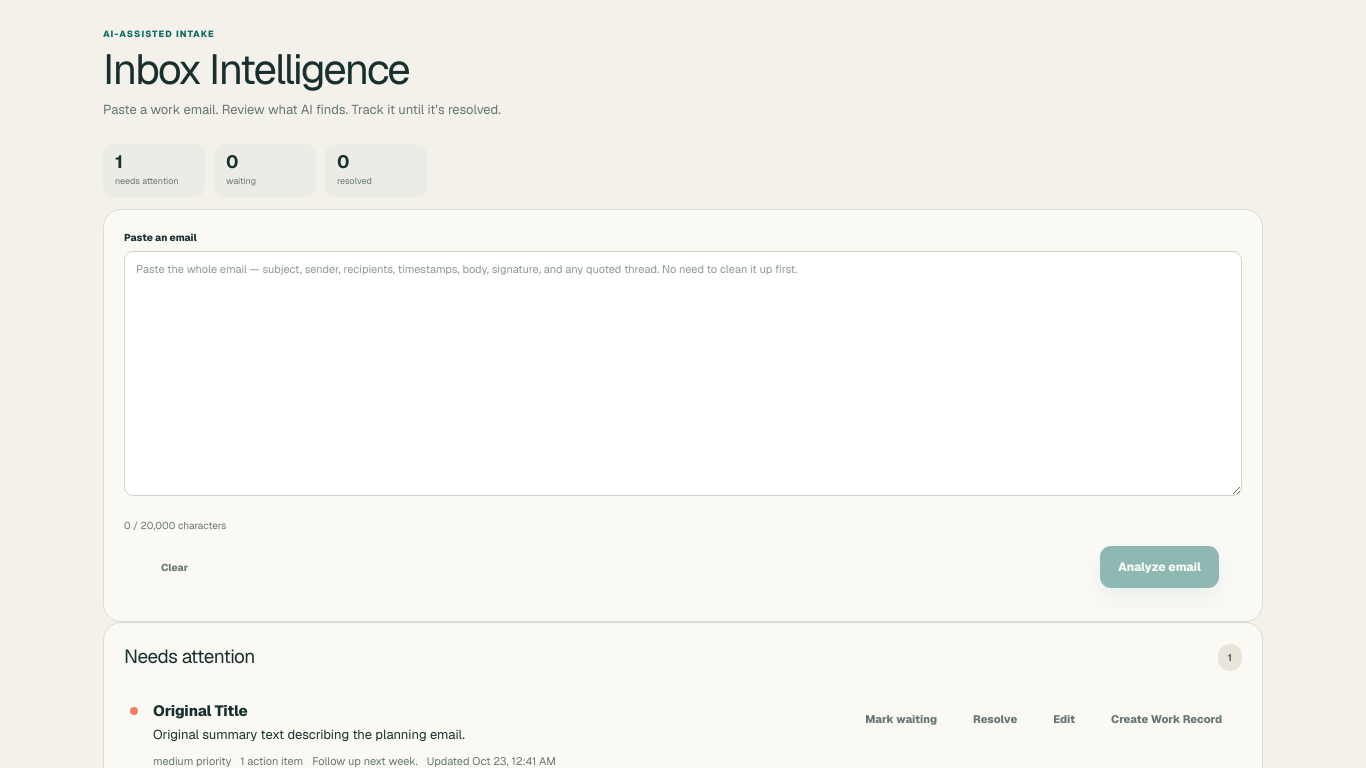
Test: Edit — opening, Cancel, and Save Changes › editing a waiting record preserves the waiting status
Click the button "Mark waiting" at (901, 719), box [851,701,951,737]
(page scrolled)
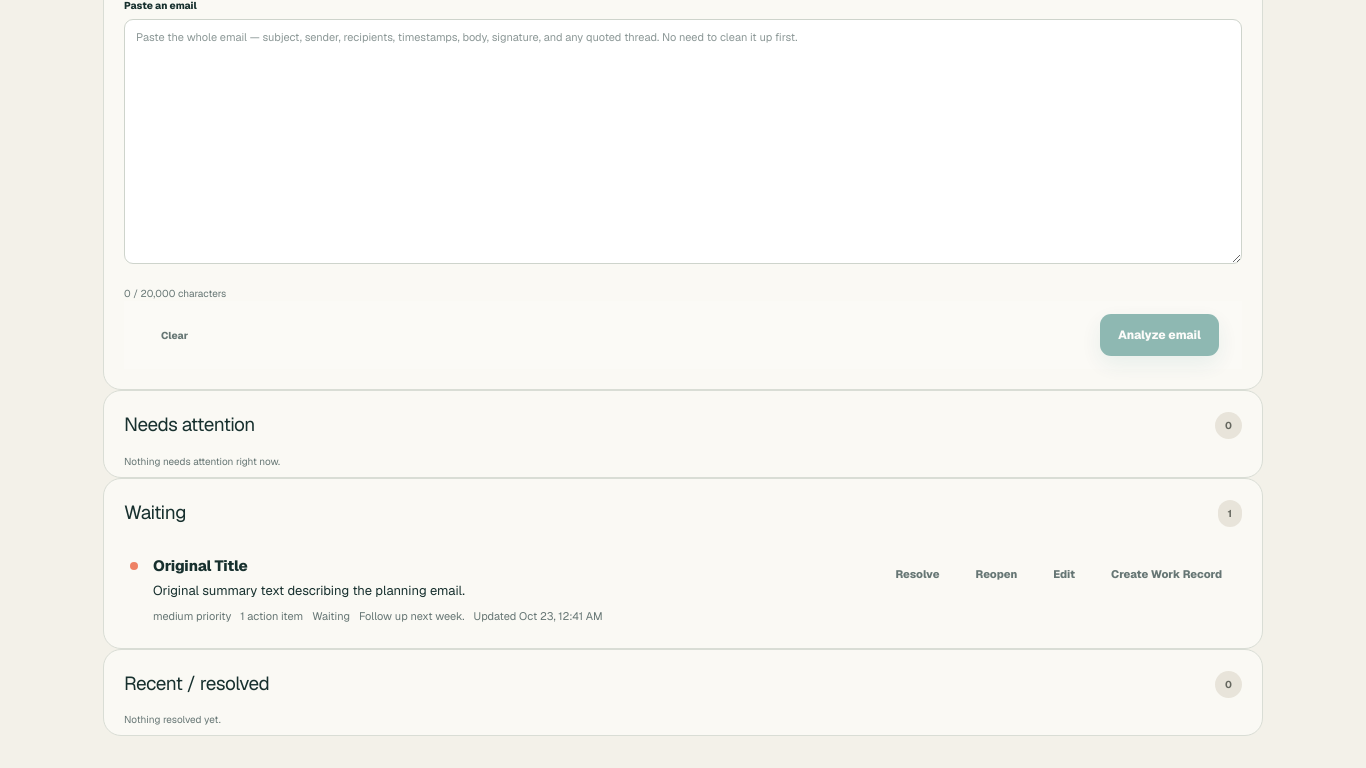
Expected: the element "Waiting" is shown, [103,478,1263,649]
Click the button "Edit" at (1064, 575), box [1039,556,1089,593]
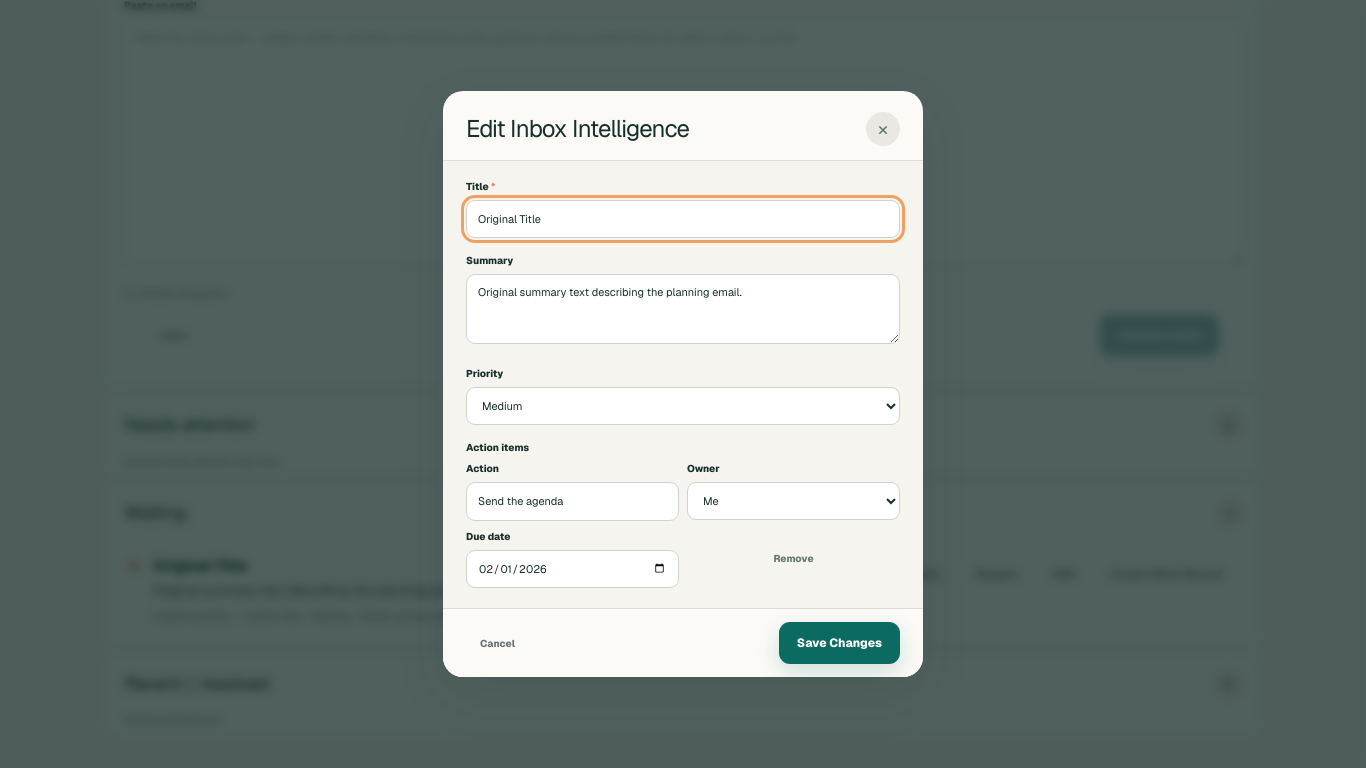
Replace the text in the field labelled "Title *" with "Still Waiting Title" at (683, 219), box [466,200,900,238]
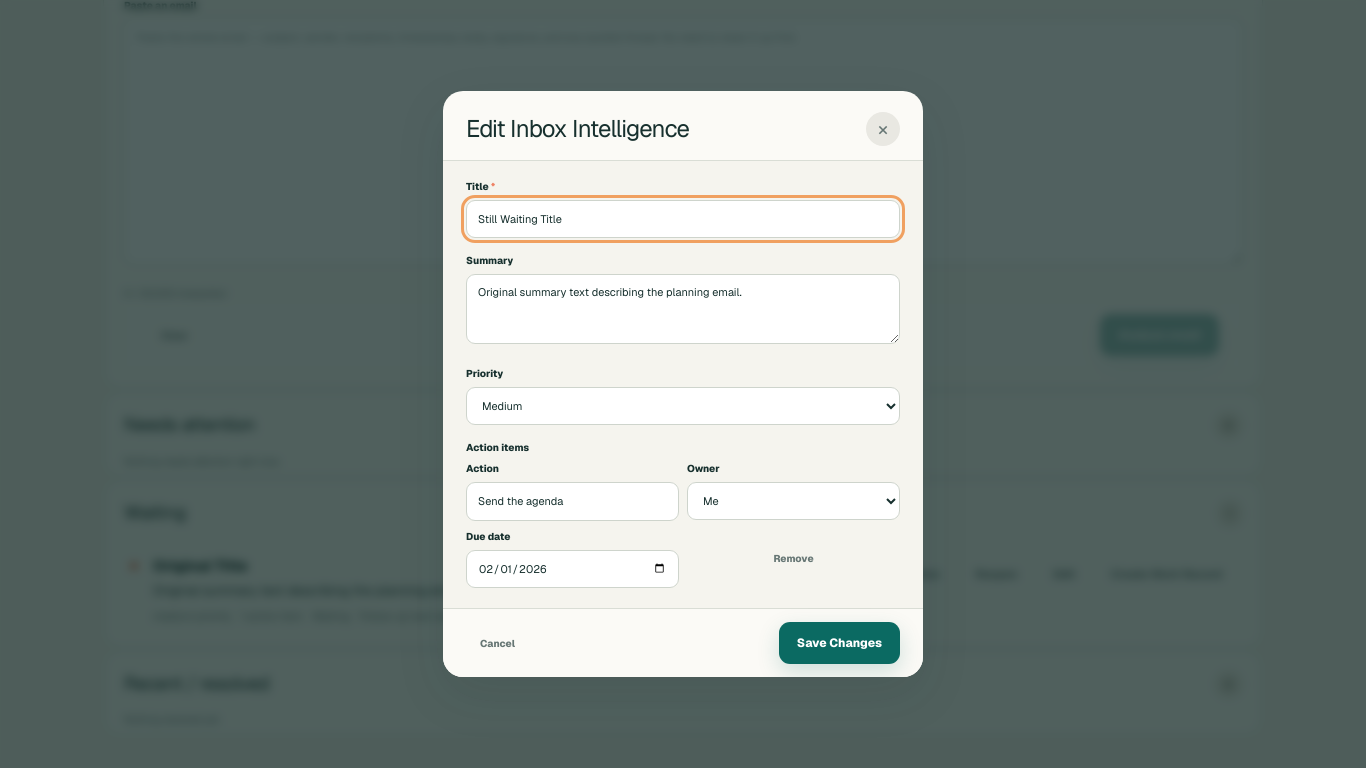
Click the button "Save Changes" at (839, 643), box [779,622,900,664]
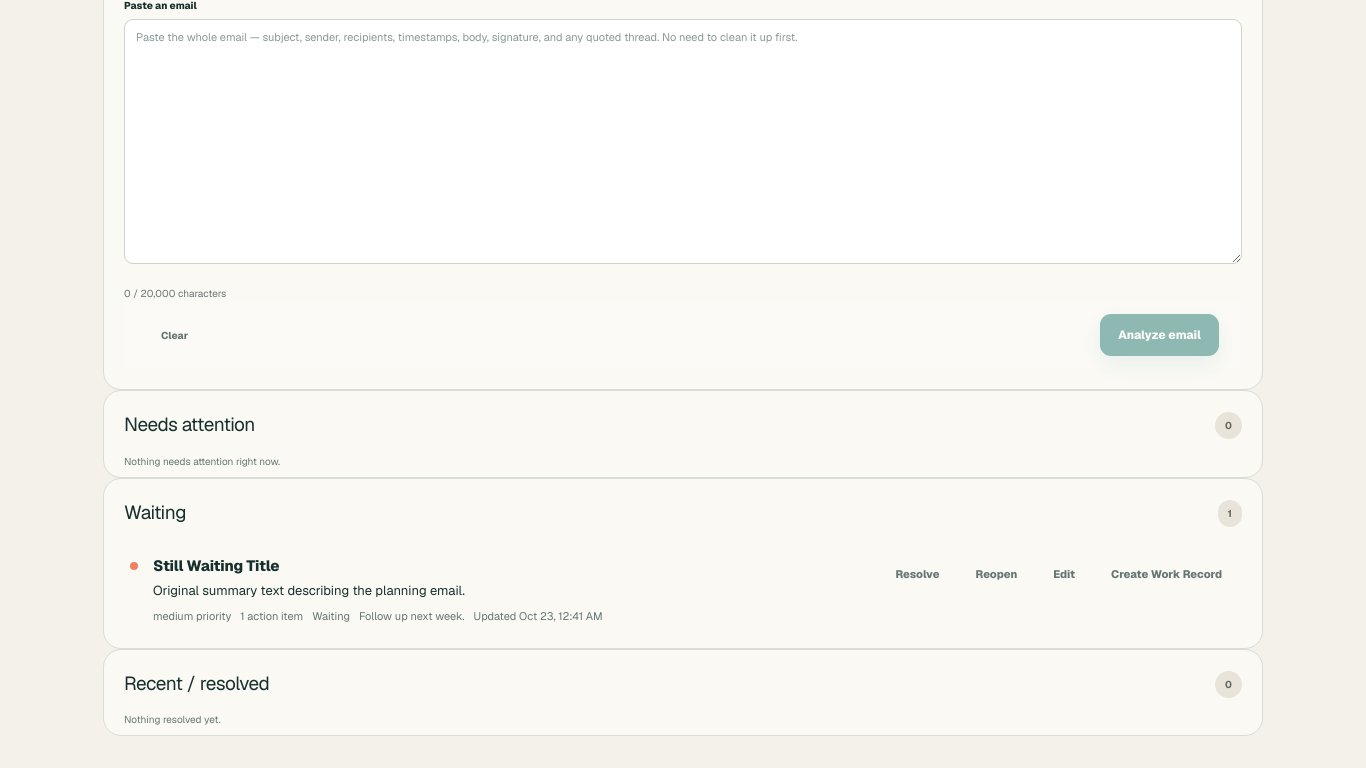
Now the dialog is gone
Now the text "Still Waiting Title" is shown, box [153,556,280,575]
